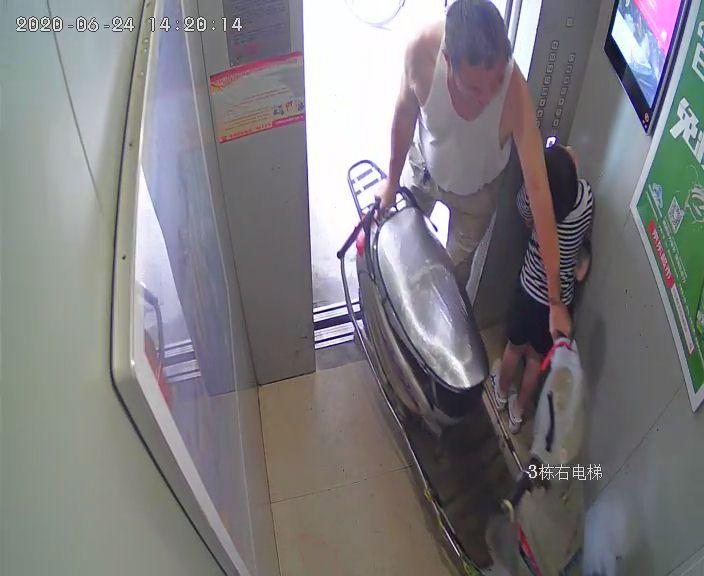Electric-bicycle: (345, 161, 585, 575)
